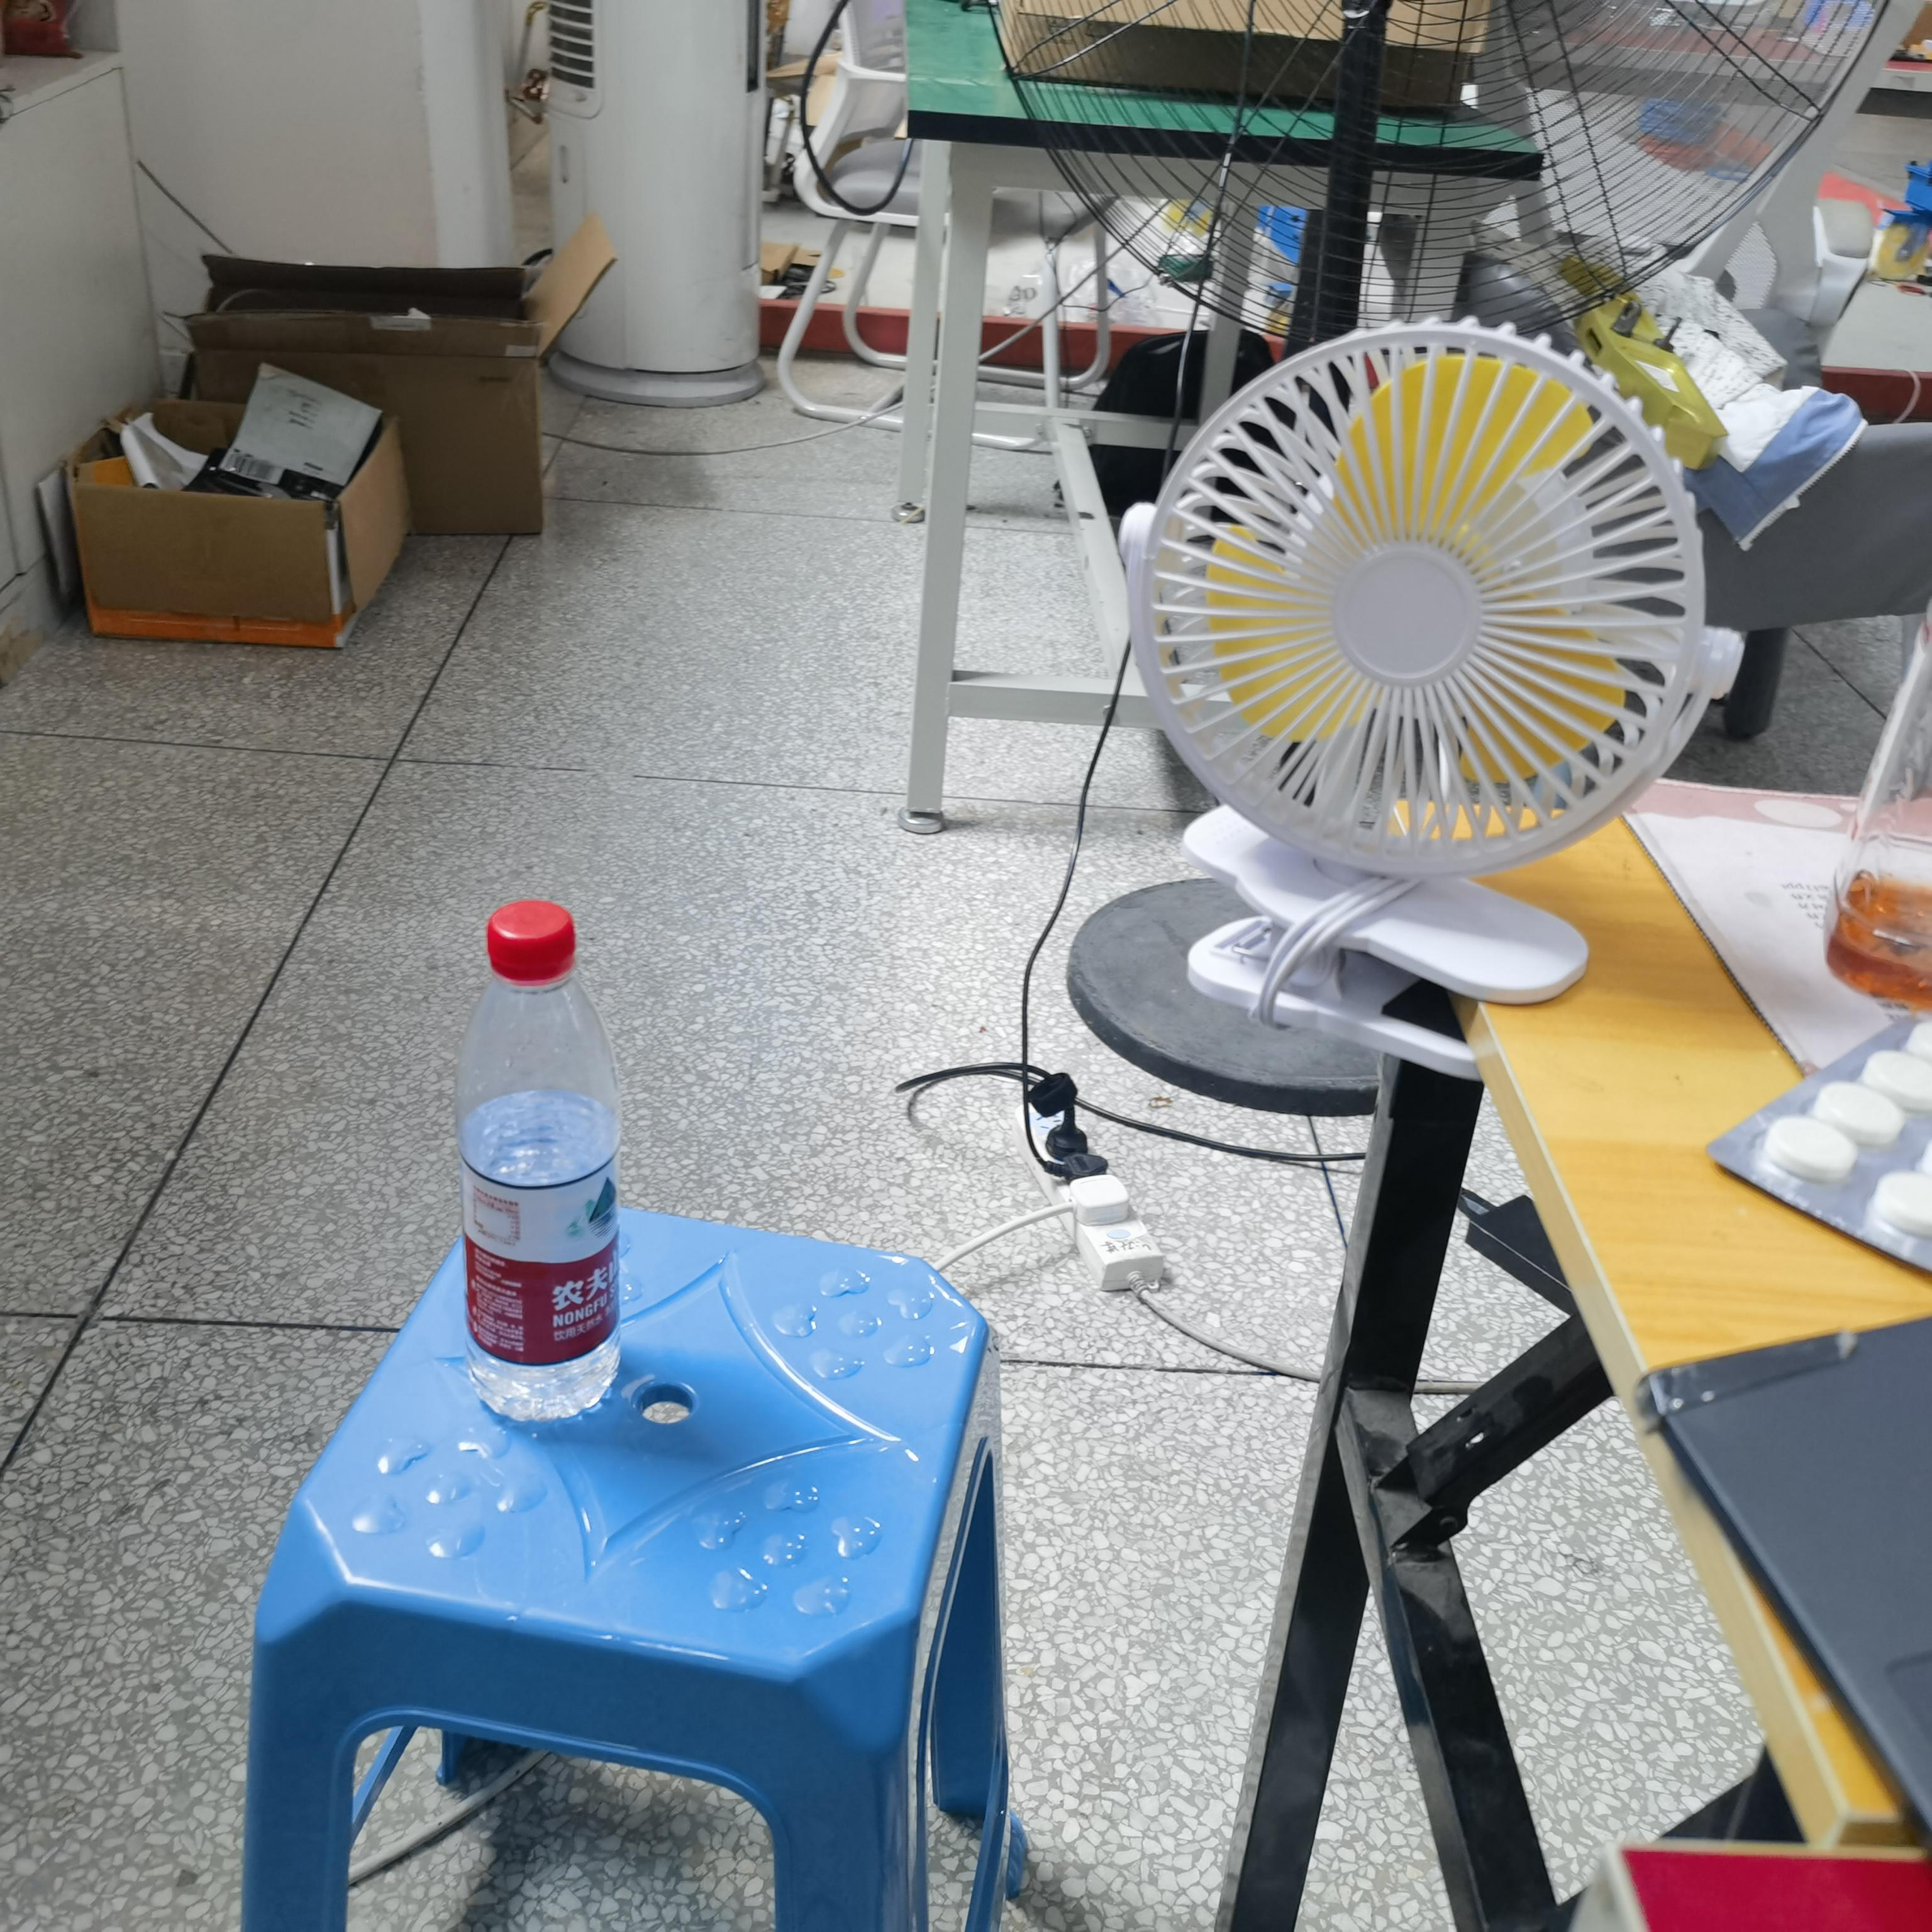bottle: (440, 885, 641, 1449)
fan: (1107, 325, 1752, 1043)
